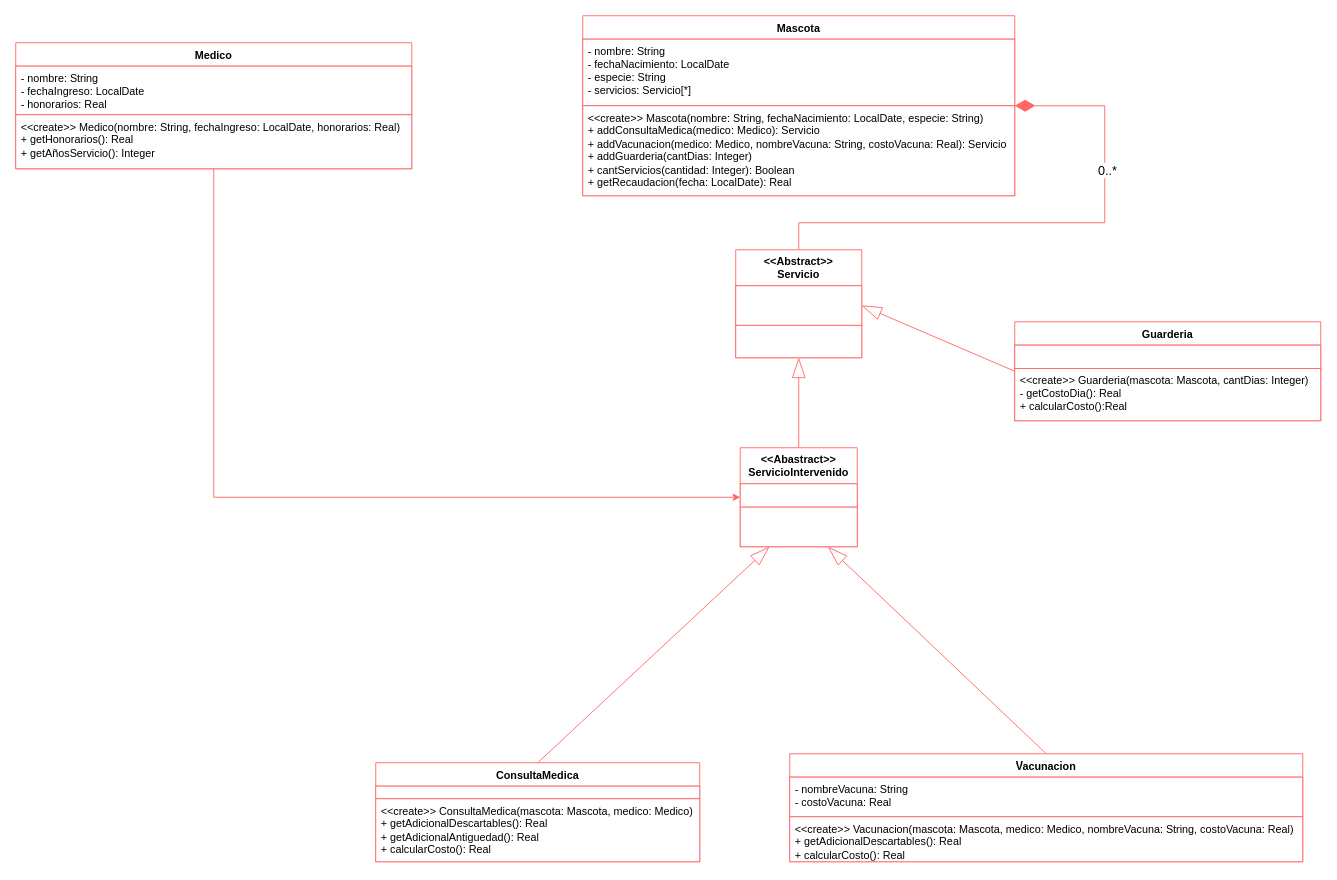
The diagram is 1337 pixels wide and 880 high, and some of its shapes have lost their labels. The shapes that lost their labels are listed below. From the top down, each one's centre as x and y in pixels, then its label:
At pixel 798 305: "- mascota: Mascota - fecha: LocalDate".
At pixel 798 341: "# isDomingo(): Boolean # calcularCosto(): Real".
At pixel 1167 356: "- cantDias: Integer".
At pixel 798 495: "- medico: Medico".
At pixel 798 526: "- costoDomingo: Real # calcularCosto: Real".
